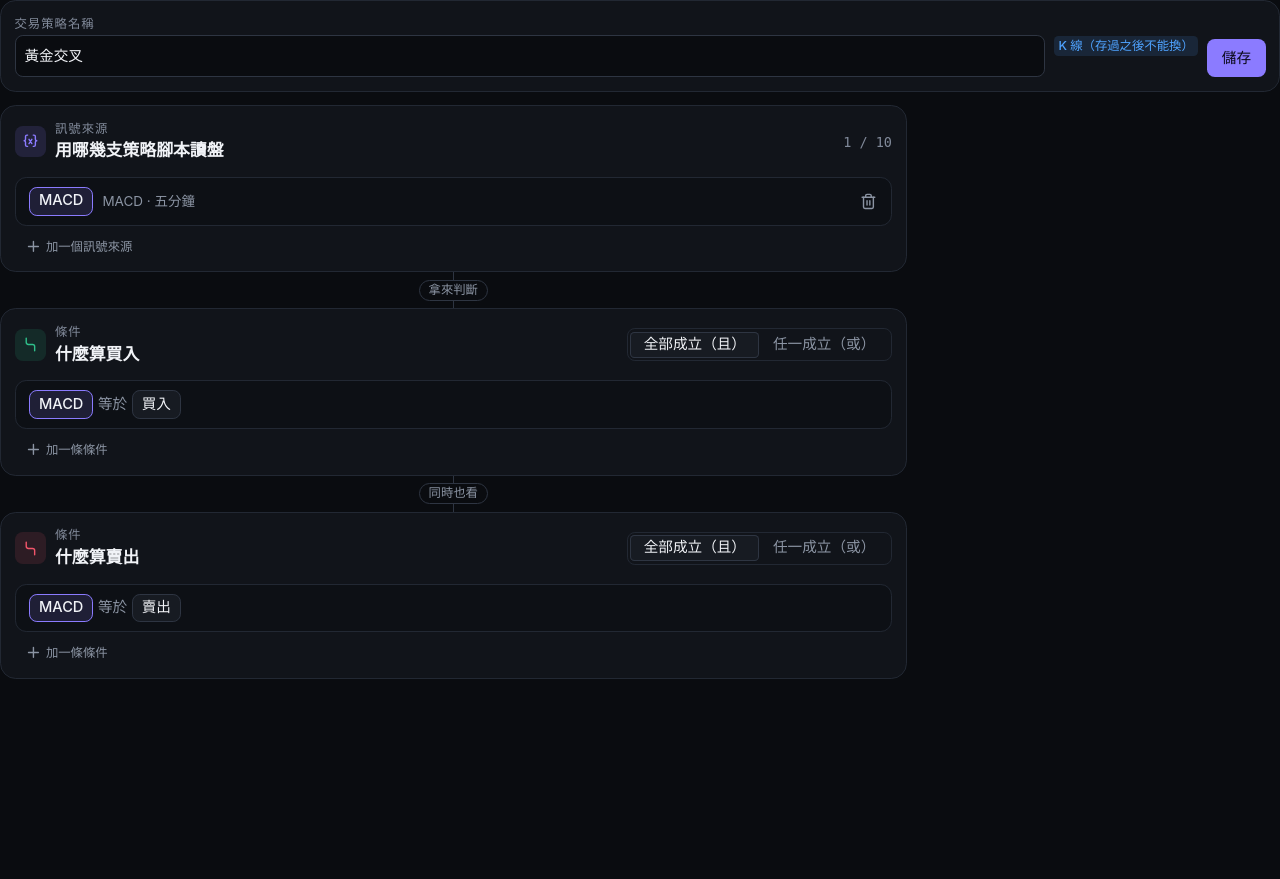
it: TradingStrategyWorkbench：三張步驟卡 › 一次只開一張卡的設定——點另一張，前一張的就收起來
The width and height of the screenshot is (1280, 879).
Click the button with test id "strategy-script-settings-0".
click(61, 201)  # box [16,178,845,224]
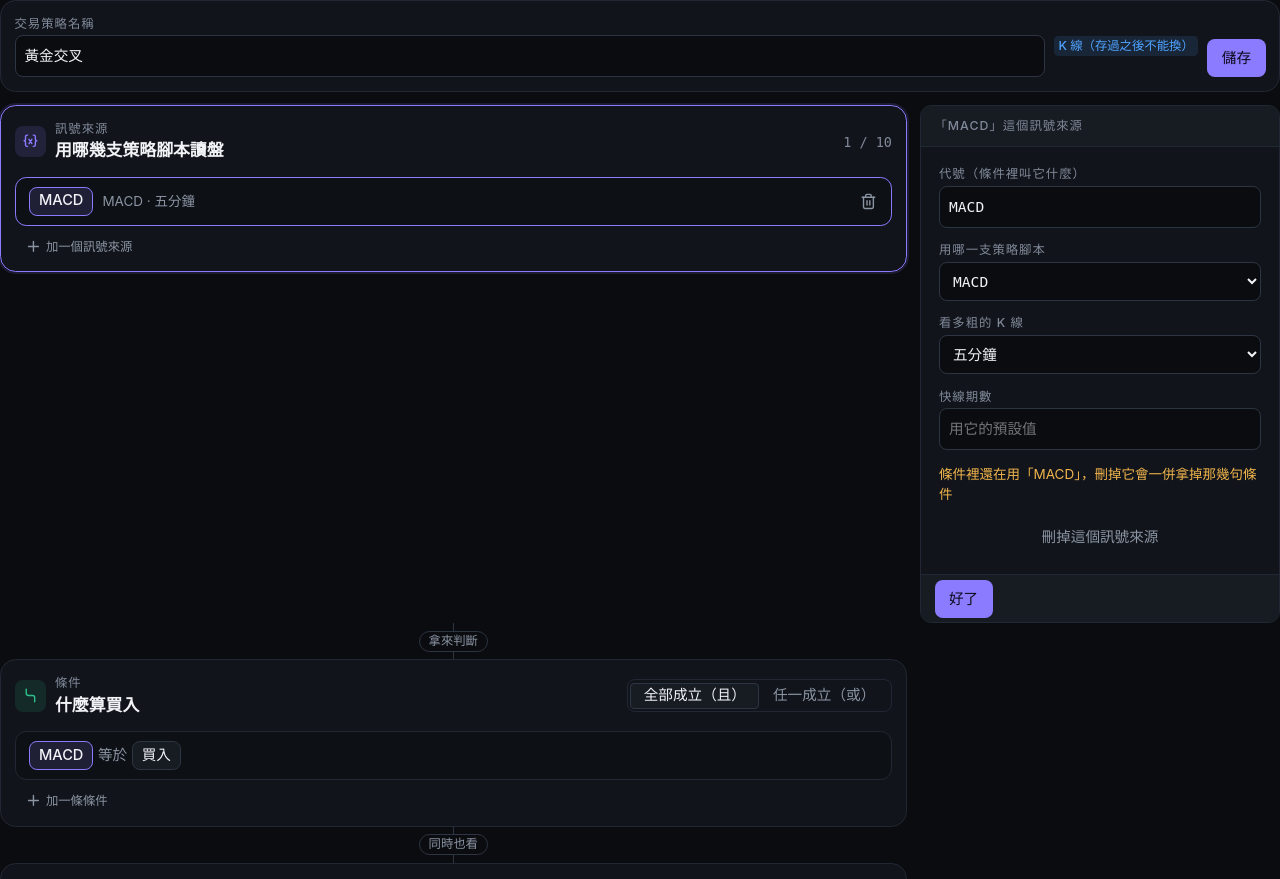
Click the button with test id "item-buy-MACD".
click(51, 751)  # box [14,731,892,780]
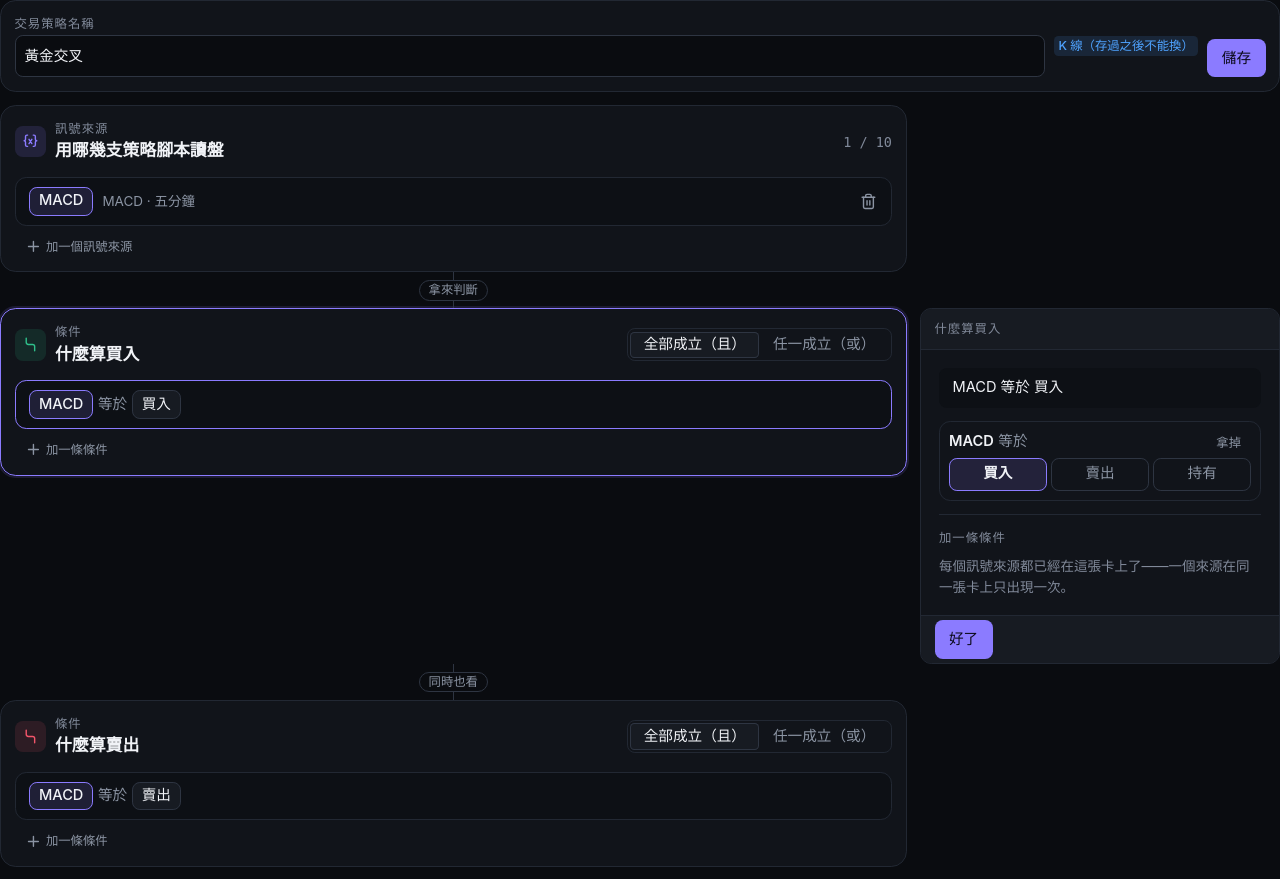
Check: the element with test id "item-settings-buy" is shown, box [939,421,1261,501]
